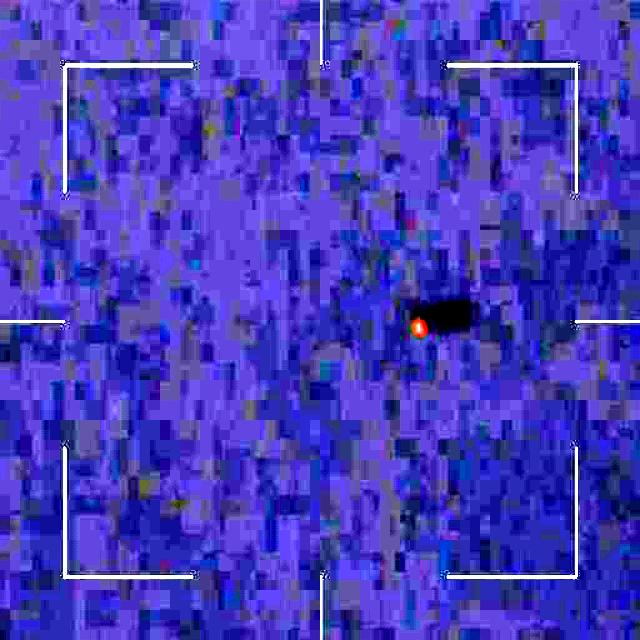bird: (408, 306, 425, 340)
